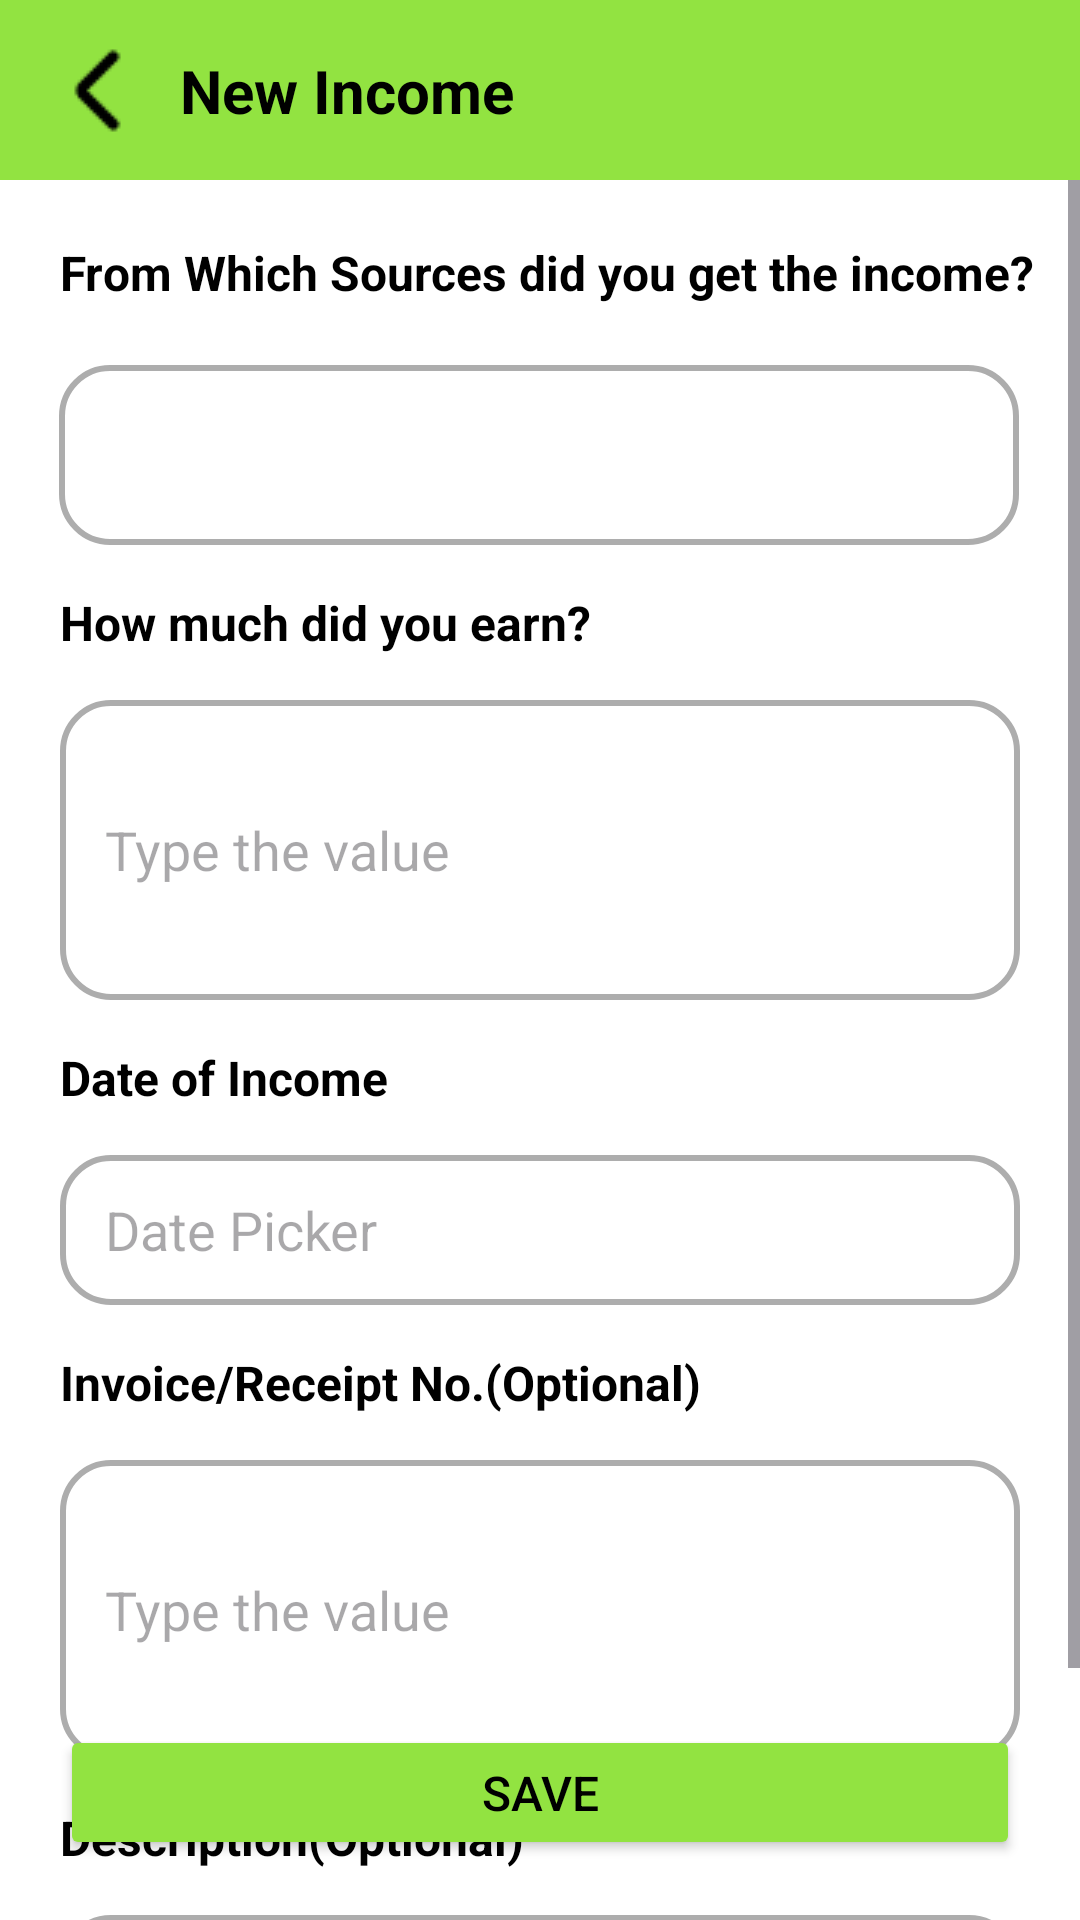

Screen size 1080×1920. Icon name, then its box in pixels as [x1=x1, y1=y1, x2=x2, y2=y2]:
back arrow: [x1=74, y1=49, x2=121, y2=132]
